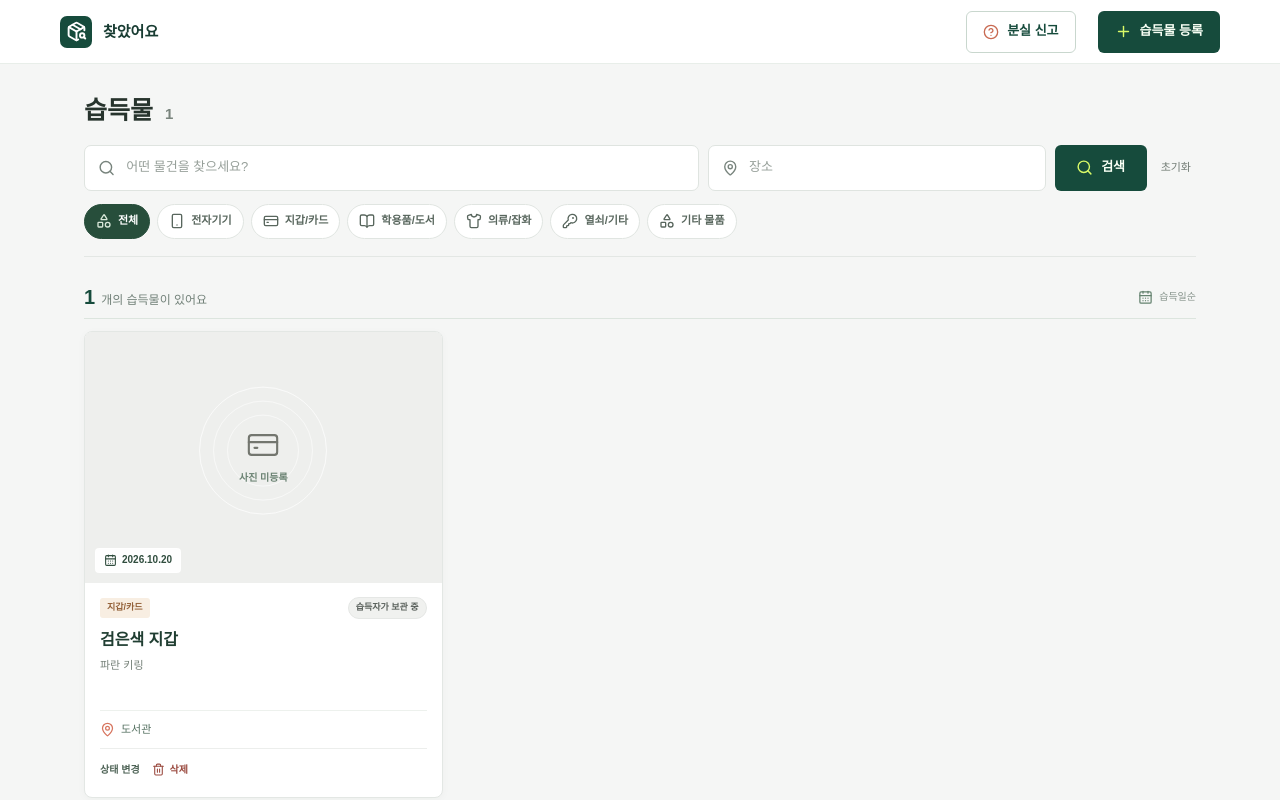
Test case: app shell › lets the poster confirm deletion and removes the item from the board
The image size is (1280, 800).
Click the button with aria-label "검은색 지갑 게시물 삭제" at x=170, y=769, box [152,756,188,782]
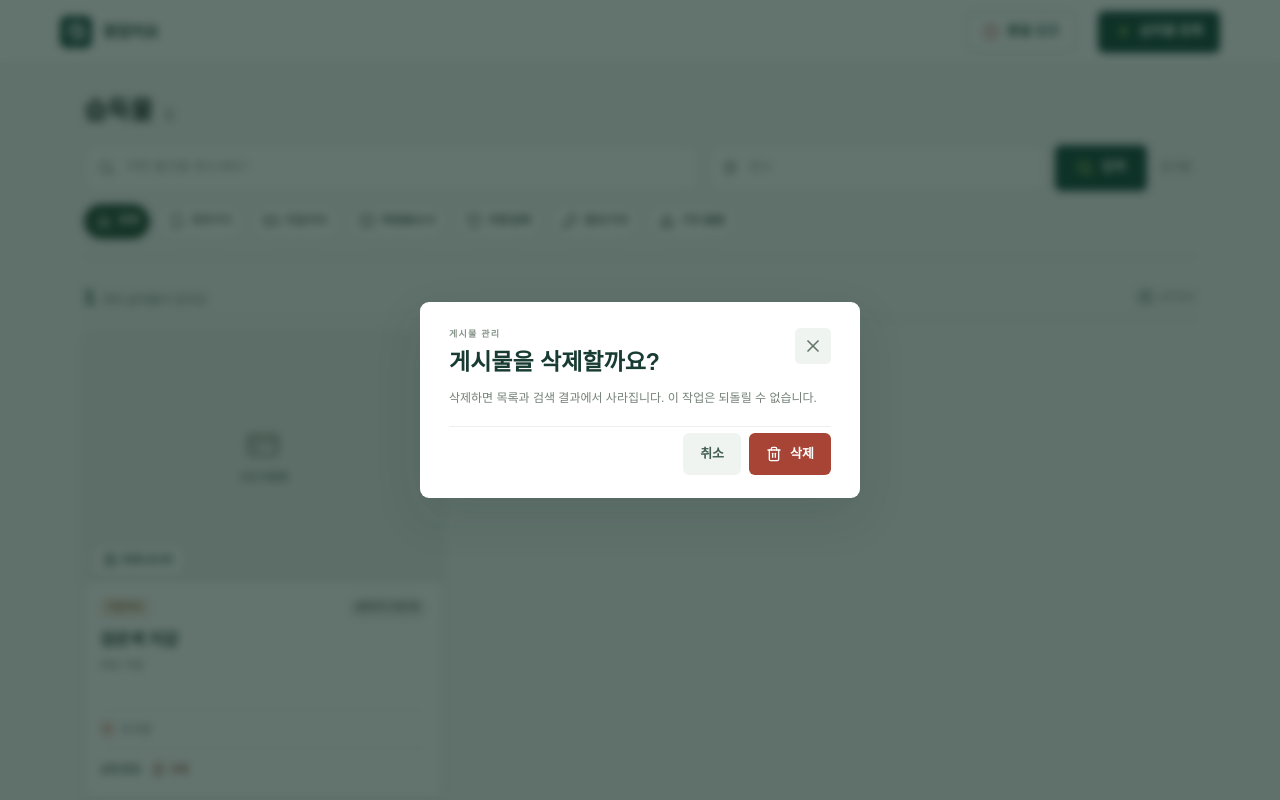
Click the button "삭제" at x=790, y=454, box [749,433,831,475]
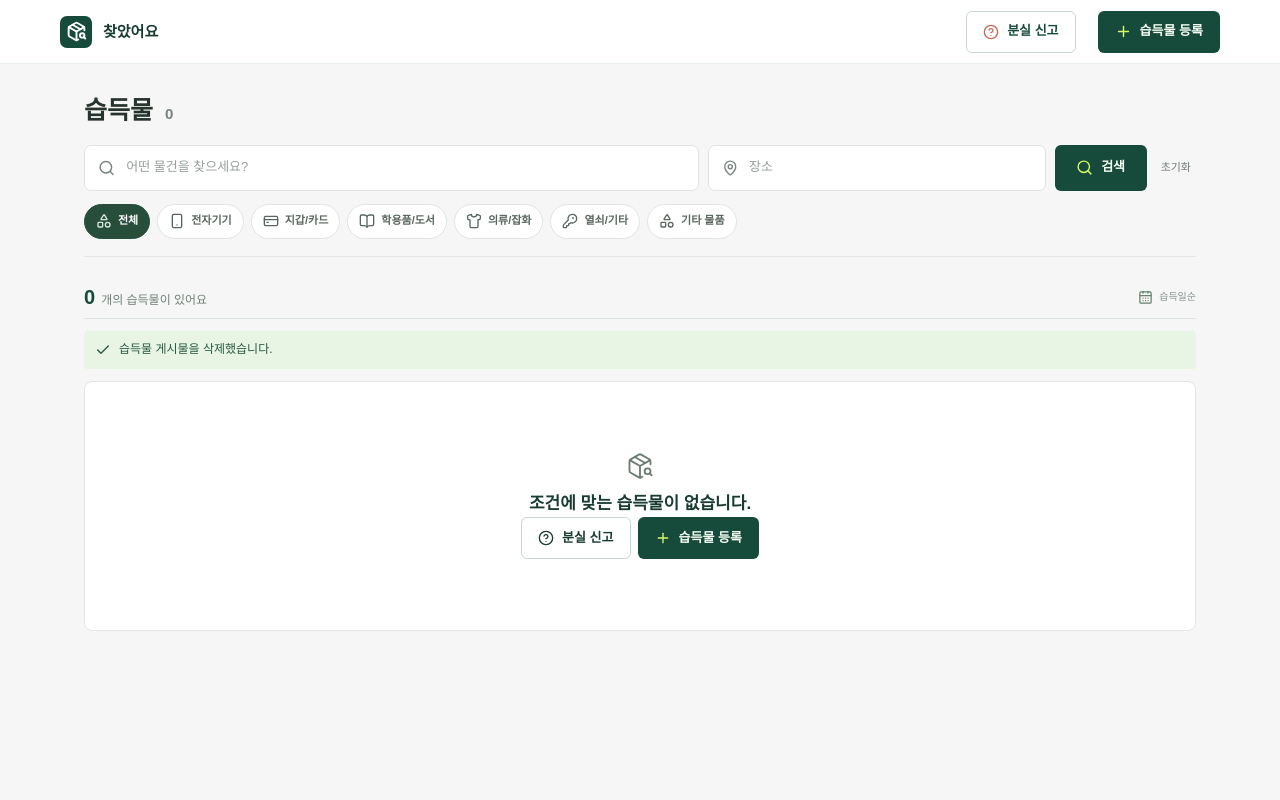
Expected: the link "검은색 지갑" is gone
